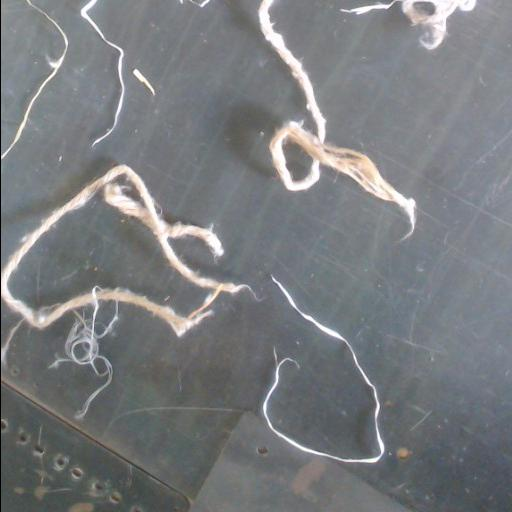conveyor belt: (1, 0, 512, 511)
jute: (1, 166, 242, 335), (258, 0, 414, 236), (342, 0, 476, 49)
thread: (261, 277, 384, 462), (270, 327, 377, 457), (1, 0, 67, 158), (49, 303, 117, 418), (80, 0, 122, 145), (132, 69, 153, 95)
